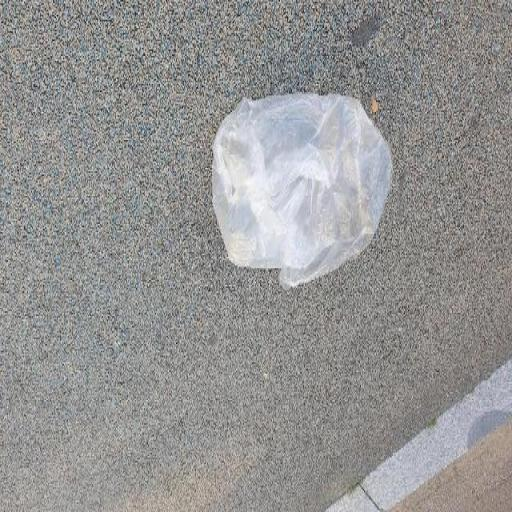plastic-bag: (208, 86, 394, 290)
